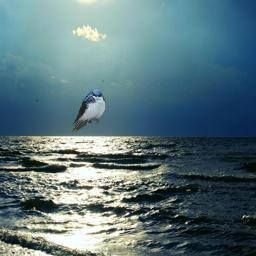Swallow: (71, 88, 106, 132)
